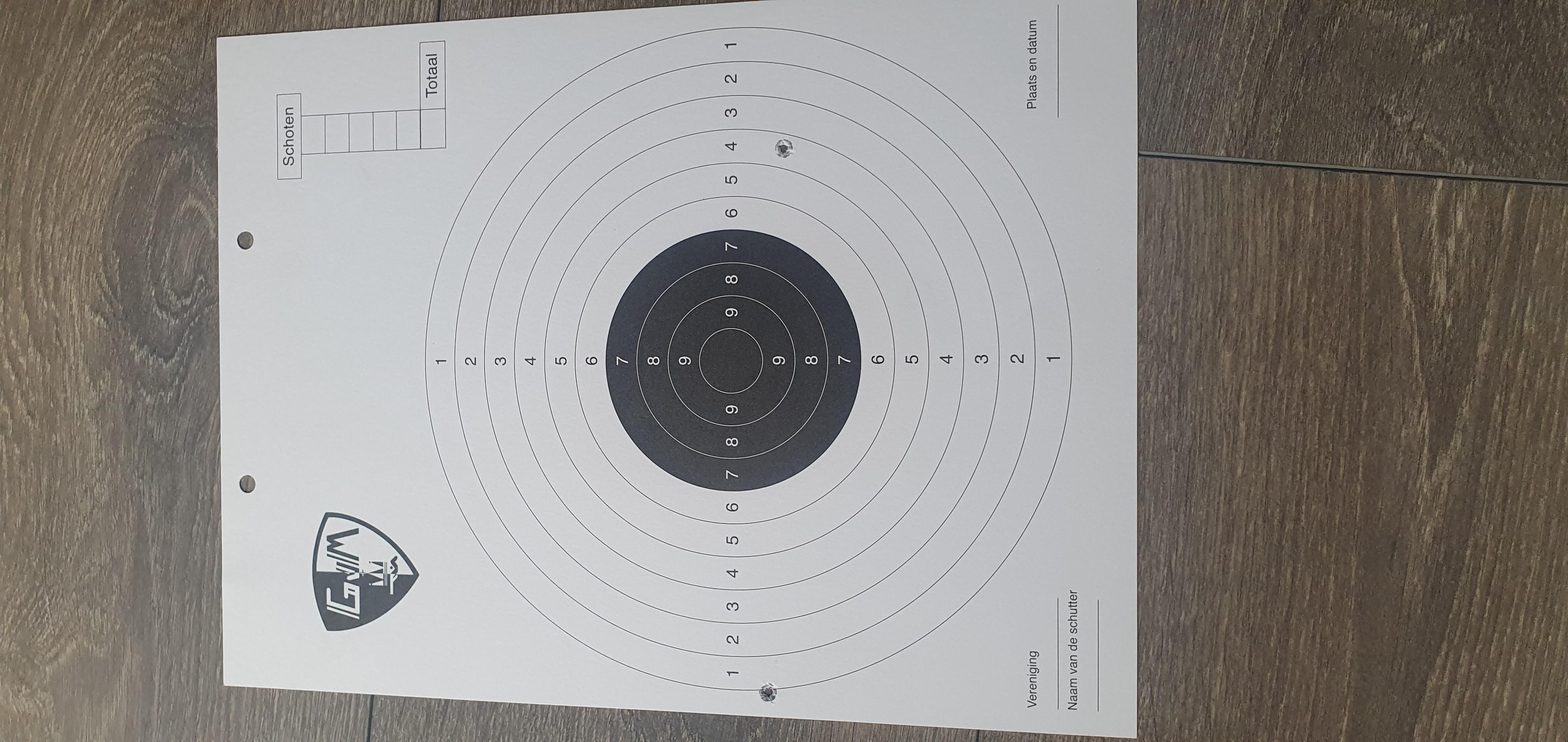hole: (1232, 365, 1280, 377), (82, 359, 128, 368)
